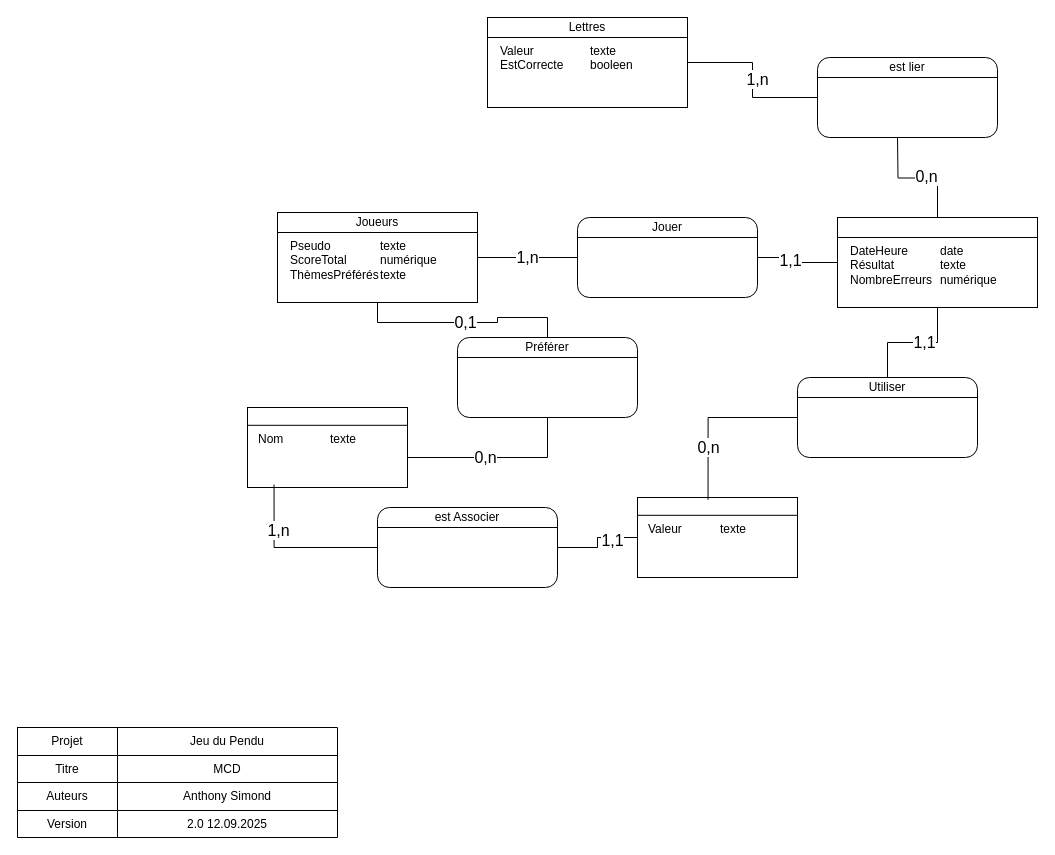
Some shapes in this 1055 by 855 pixel diagram are drawn without their labels. Each missing label, with the box of its shape:
Mots: (636, 496, 798, 515)
Parties: (836, 216, 1038, 238)
Thèmes: (246, 406, 408, 425)
